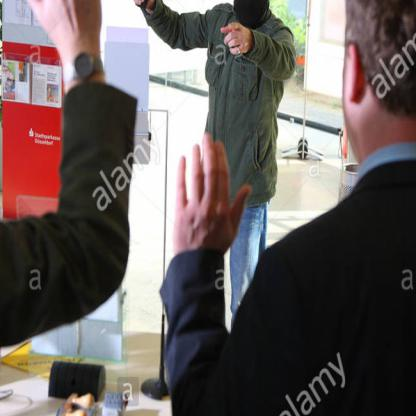gun: (120, 0, 159, 11)
